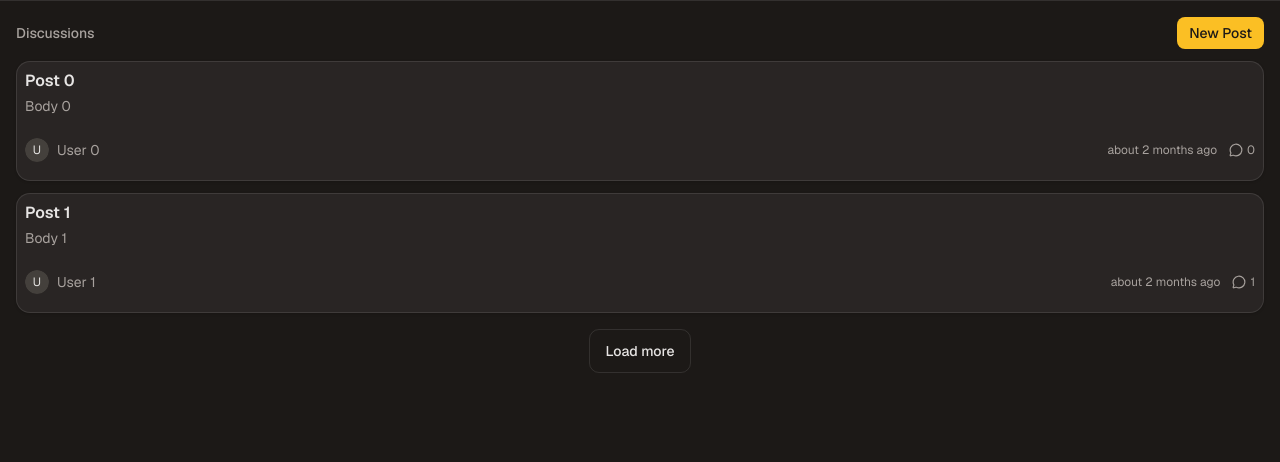
Test: PostList › shows load more button and loads next page
This screenshot has width=1280, height=462.
Click the button with test id "load-more-button". click: (640, 351)
box: x1=588 y1=329 x2=692 y2=373
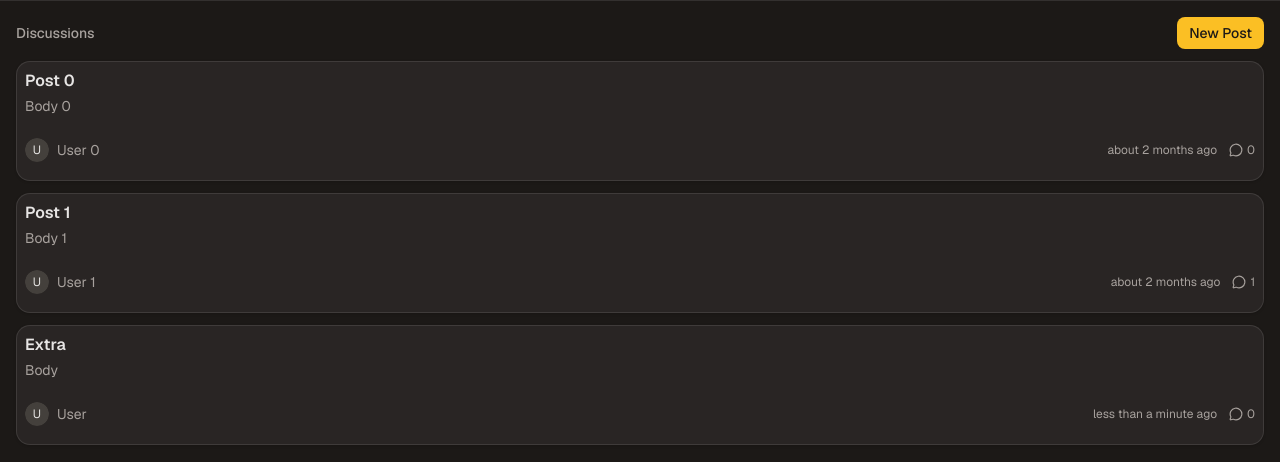
Expected: the number of elements with test id "post-card" is 3, x1=16 y1=61 x2=1264 y2=181; x1=16 y1=193 x2=1264 y2=313; x1=16 y1=325 x2=1264 y2=445
Expected: the button with test id "load-more-button" is gone
